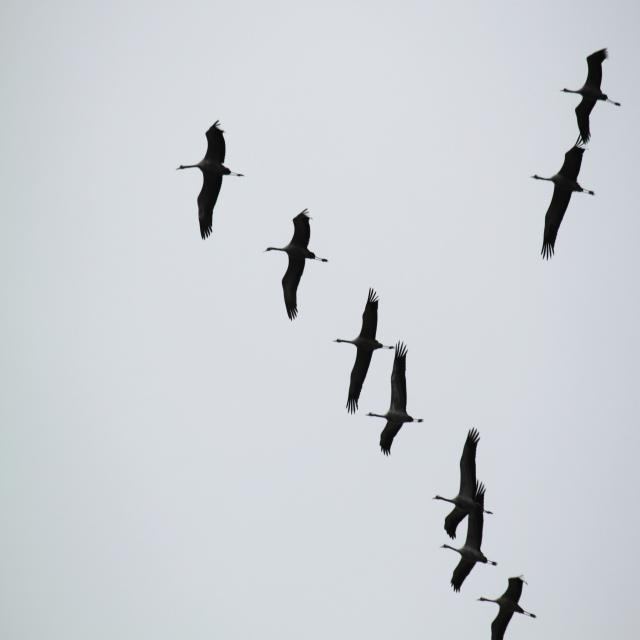bird: (432, 423, 492, 587), (178, 125, 246, 242), (534, 147, 600, 261), (266, 209, 330, 325), (337, 289, 391, 412), (369, 342, 426, 454), (560, 47, 624, 146), (440, 509, 495, 591), (480, 574, 536, 640)
